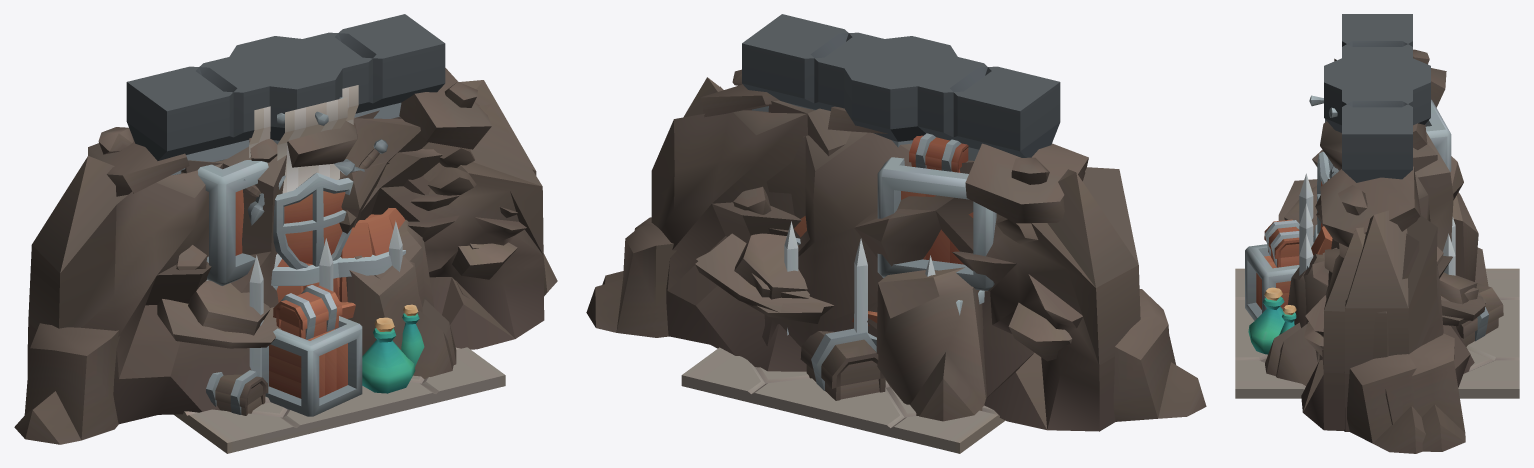
The model's file is dungeon_props.glb.
3 renders of one model, left to right at view 1: azimuth 30°, elevation 25°; view 2: azimuth 150°, elevation 25°; view 3: azimuth 270°, elevation 25°, orthographic. The views are drawn at different scales.
Parts seen in each view (by area): view 1: rubble_large, box_stacked, wall_gated, pillar_decorated, rubble_half, Cube.14376, spikes, barrel_large, banner_patternB_white; view 2: rubble_large, rubble_half, wall_gated, box_stacked, Cube.14376, pillar_decorated, spikes; view 3: rubble_half, rubble_large, wall_gated, Cube.14376, box_stacked, pillar_decorated, spikes.
Part boxes in pixels (x1,y1,x2,y2): rubble_large: (14,104,557,444); box_stacked: (197,160,424,416); wall_gated: (126,14,445,175); pillar_decorated: (223,36,387,269); rubble_half: (339,68,536,364); Cube.14376: (174,347,505,453); spikes: (249,221,402,377); barrel_large: (271,259,339,302); banner_patternB_white: (249,85,358,157); rubble_large: (602,86,1206,431); rubble_half: (586,69,851,371); wall_gated: (742,14,1060,160); box_stacked: (786,133,996,400); Cube.14376: (681,347,1005,453); pillar_decorated: (838,36,964,147); spikes: (784,221,935,335); rubble_half: (1276,144,1485,451); rubble_large: (1265,49,1488,453); wall_gated: (1342,14,1412,182); Cube.14376: (1235,268,1519,398); box_stacked: (1245,99,1503,354); pillar_decorated: (1309,52,1430,233); spikes: (1299,173,1455,275).
Bounding box in the file's own units: 8.13 × 4.79 × 4.
1 material, 1 textured.
